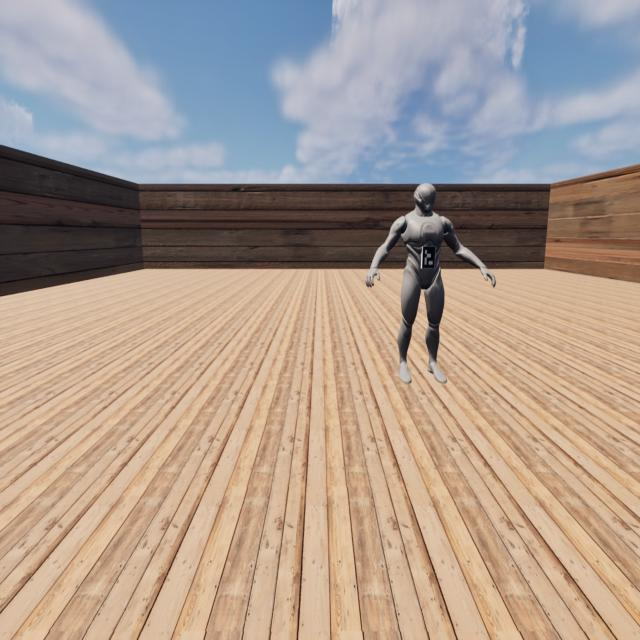aruco: (422, 246, 435, 268)
hip: (404, 267, 441, 277)
